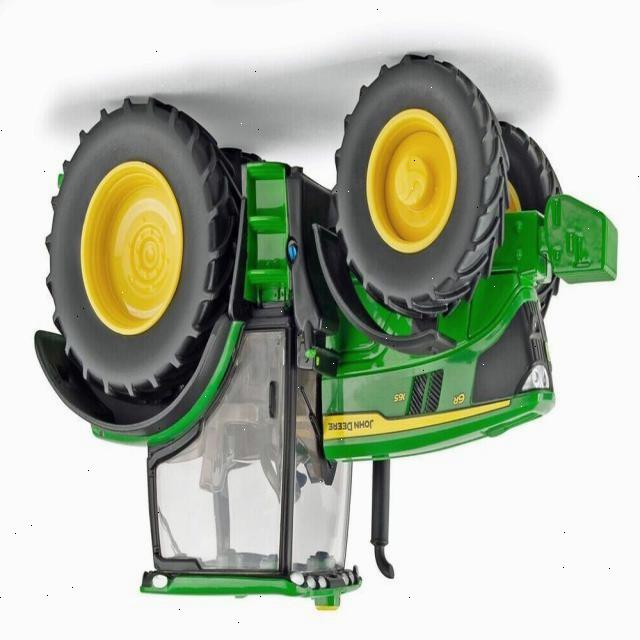Tratores - v5 YOLO V8L 2024-11-13: (33, 49, 622, 620)
